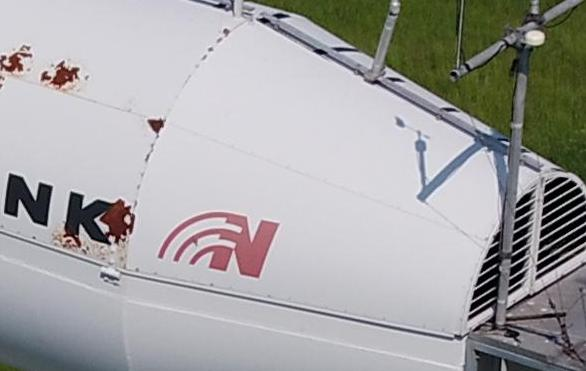damage: (99, 198, 136, 246), (39, 57, 89, 92), (52, 219, 91, 255), (0, 42, 33, 75), (147, 116, 167, 136)
